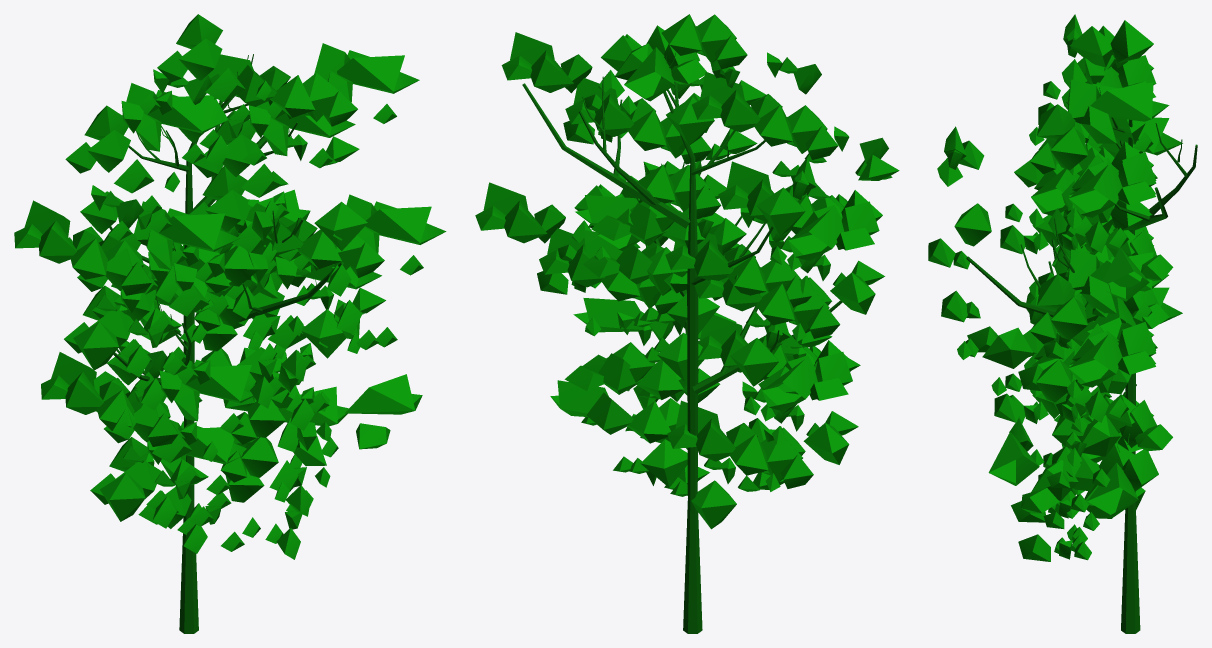
Rendered from Tree_tropicalHigh.fbx.
3 views of the same model, side by side, from view 1: azimuth 30°, elevation 25°; view 2: azimuth 150°, elevation 25°; view 3: azimuth 270°, elevation 25° (orthographic).
Parts seen in each view (by area): view 1: tree; view 2: tree; view 3: tree.
Boxes of the visible parts, box(x1,y1,x2,y2) form: tree: box(14, 14, 446, 633); tree: box(475, 14, 899, 633); tree: box(928, 14, 1197, 633).
Bounding box in the file's own units: 686 × 984 × 392.
